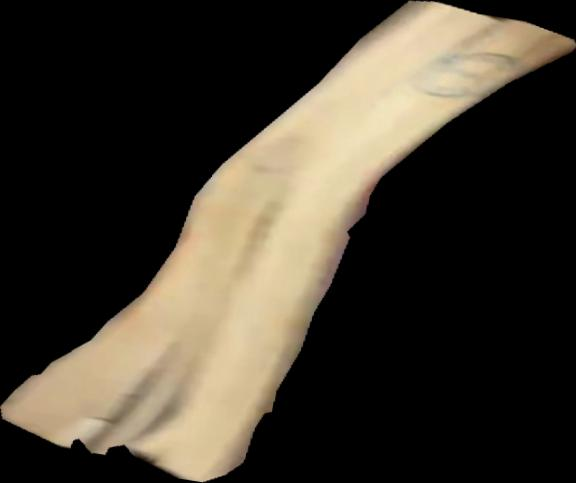backward: (1, 1, 576, 483)
